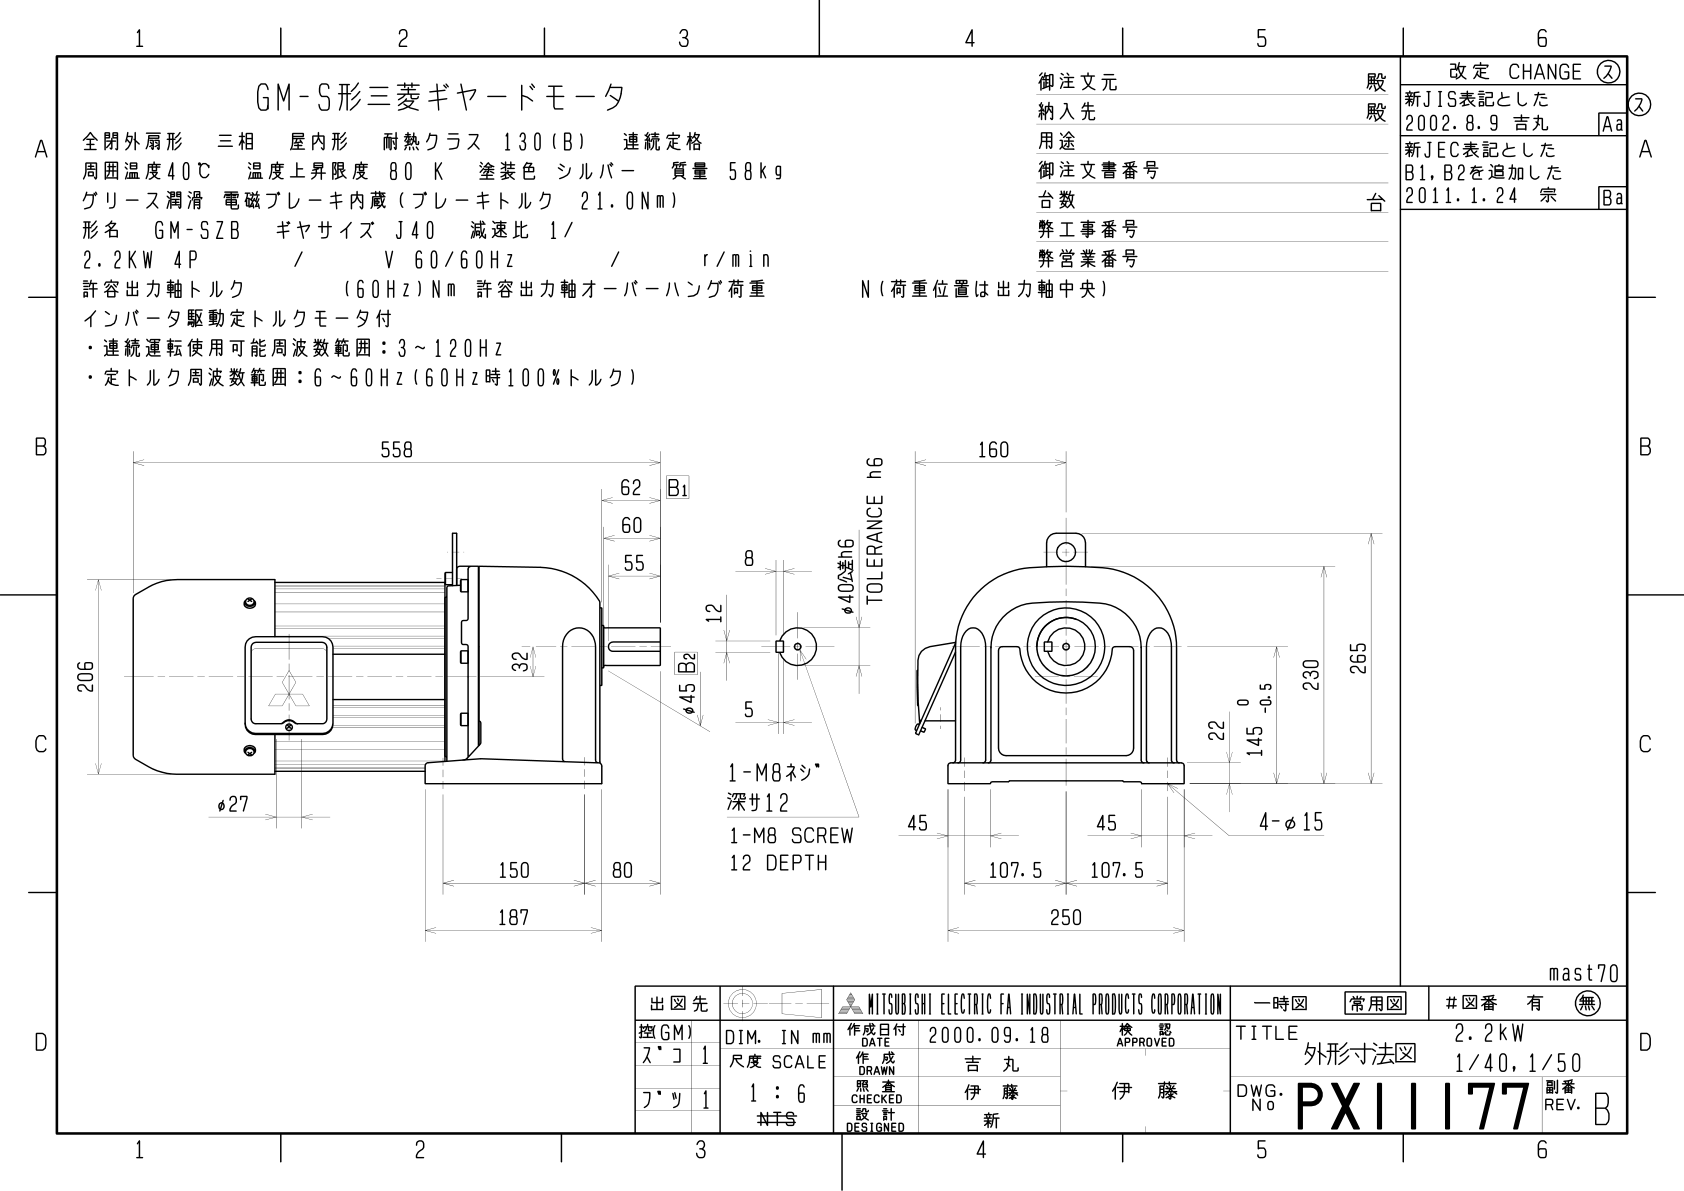GM_S_インバタ屋外＿三相_脚: (64, 414, 1392, 967)
